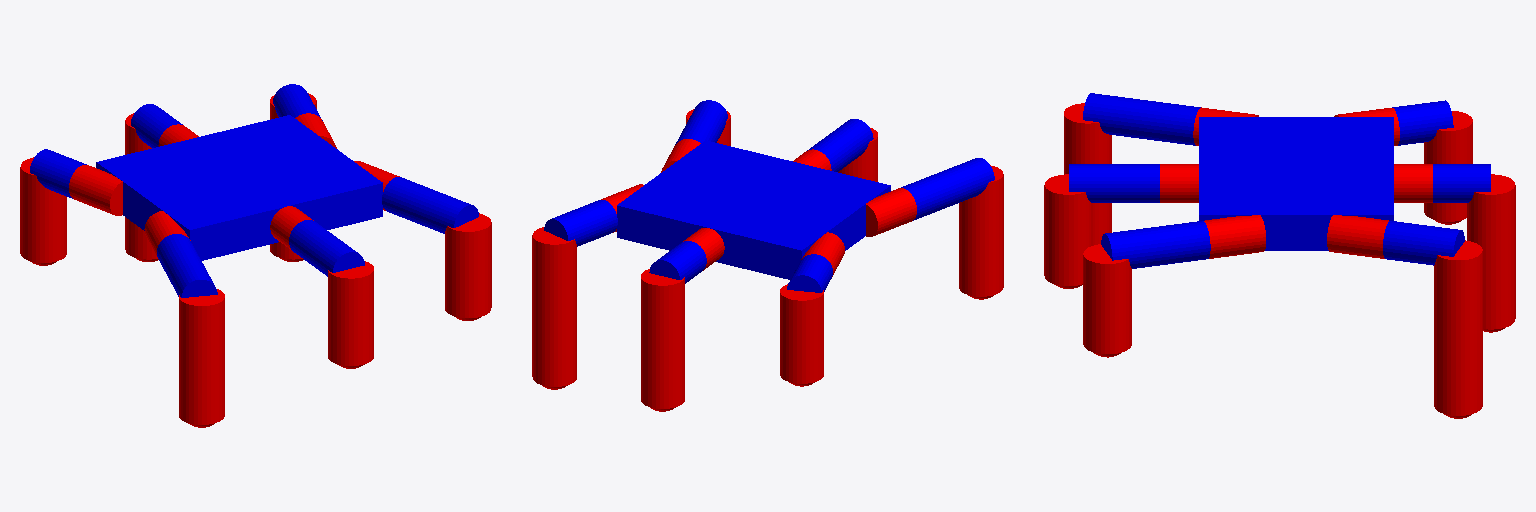
--- Facts derived from the render (not from the file) ---
3 views of the same robot in one strip: view 1: azimuth 30°, elevation 25°; view 2: azimuth 150°, elevation 25°; view 3: azimuth 270°, elevation 25° (orthographic).
Robot: pexod — 19 links, 18 joints (18 revolute); root link base_link; default pose: every joint at zero.
Links seen in each view (by area): view 1: base_link, leg_5_3, leg_3_3, leg_4_3, leg_0_3, leg_3_2, leg_4_2, leg_5_2, leg_0_1, leg_0_2, leg_1_3, leg_1_2 (+4 smaller); view 2: base_link, leg_2_3, leg_1_3, leg_5_3, leg_0_3, leg_5_2, leg_2_2, leg_4_2, leg_5_1, leg_1_2, leg_3_2, leg_0_2 (+3 smaller); view 3: base_link, leg_2_3, leg_1_3, leg_3_3, leg_4_3, leg_5_2, leg_3_2, leg_4_2, leg_5_3, leg_2_2, leg_0_3, leg_2_1 (+5 smaller).
Boxes of the visible links, left/top/right/bottom form: base_link: left=96, top=115, right=382, bottom=260; leg_5_3: left=179, top=289, right=224, bottom=427; leg_3_3: left=445, top=213, right=491, bottom=320; leg_4_3: left=328, top=261, right=373, bottom=368; leg_0_3: left=20, top=157, right=66, bottom=265; leg_3_2: left=382, top=177, right=478, bottom=233; leg_4_2: left=289, top=220, right=364, bottom=276; leg_5_2: left=157, top=234, right=217, bottom=297; leg_0_1: left=69, top=165, right=122, bottom=215; leg_0_2: left=30, top=149, right=86, bottom=198; leg_1_3: left=125, top=113, right=158, bottom=261; leg_1_2: left=131, top=104, right=182, bottom=147; base_link: left=617, top=140, right=890, bottom=279; leg_2_3: left=532, top=227, right=576, bottom=389; leg_1_3: left=641, top=269, right=684, bottom=411; leg_5_3: left=959, top=165, right=1003, bottom=299; leg_0_3: left=780, top=284, right=823, bottom=386; leg_5_2: left=901, top=158, right=994, bottom=220; leg_2_2: left=544, top=200, right=617, bottom=246; leg_4_2: left=807, top=119, right=873, bottom=171; leg_5_1: left=866, top=188, right=916, bottom=236; leg_1_2: left=649, top=241, right=706, bottom=283; leg_3_2: left=675, top=100, right=727, bottom=144; leg_0_2: left=787, top=254, right=832, bottom=292; base_link: left=1199, top=117, right=1393, bottom=250; leg_2_3: left=1434, top=240, right=1482, bottom=418; leg_1_3: left=1467, top=174, right=1515, bottom=332; leg_3_3: left=1083, top=244, right=1131, bottom=357; leg_4_3: left=1044, top=174, right=1092, bottom=288; leg_5_2: left=1083, top=93, right=1200, bottom=145; leg_3_2: left=1101, top=221, right=1210, bottom=268; leg_4_2: left=1069, top=164, right=1159, bottom=202; leg_5_3: left=1064, top=103, right=1111, bottom=245; leg_2_2: left=1383, top=221, right=1464, bottom=265; leg_0_3: left=1424, top=111, right=1472, bottom=224; leg_2_1: left=1327, top=215, right=1388, bottom=258.
Size in the robot's own frame: 0.3915 by 0.484 by 0.2088 metres.
Geometry: primitives only (box / cylinder / sphere), no mesh files.

URDF robot description (pexod):
<?xml version="1.0" ?>
<!-- =================================================================================== -->
<!-- |    This document was autogenerated by xacro from pexod.xacro                    | -->
<!-- |    EDITING THIS FILE BY HAND IS NOT RECOMMENDED                                 | -->
<!-- =================================================================================== -->
<robot name="pexod" xmlns:xacro="http://www.ros.org/wiki/xacro">
  <!-- <xacro:include filename="$(find pexod_description)/urdf/pexod_control.xacro" /> -->
  <!-- MATERIALS -->
  <material name="Blue">
    <color rgba="0 0 1 1"/>
  </material>
  <material name="Red">
    <color rgba="1 0 0 1"/>
  </material>
  <material name="Green">
    <color rgba="0 1 0 1"/>
  </material>
  <material name="Yellow">
    <color rgba="1 1 0 1"/>
  </material>
  <material name="LightGrey">
    <color rgba="0.6 0.6 0.6 1.0"/>
  </material>
  <!-- END OF MATERIALS -->
  <!-- XACRO MACROS FOR VISUALS AND COLLISIONS -->
  <!-- END OF XACRO MACROS -->
  <!-- TORSO -->
  <link name="base_link">
    <visual>
      <origin rpy="0 0 0" xyz="0 0 0"/>
      <geometry>
        <box size="0.24 0.2 0.04"/>
      </geometry>
      <material name="Blue"/>
    </visual>
    <collision>
      <origin rpy="0 0 0" xyz="0 0 0"/>
      <geometry>
        <box size="0.24 0.2 0.04"/>
      </geometry>
    </collision>
    <inertial>
      <!-- CENTER OF MASS -->
      <origin rpy="0 0 0" xyz="0 0 0"/>
      <mass value="1.031"/>
      <!-- box inertia: 1/12*m(y^2+z^2), ... -->
      <inertia ixx="0.00357413333333" ixy="0" ixz="0" iyy="0.00508626666667" iyz="0" izz="0.00838546666667"/>
    </inertial>
  </link>
  <!-- XACRO MACRO FOR LEGS LINKS/JOINTS -->
  <!-- END OF LEG LINKS/JOINTS -->
  <joint name="body_leg_2" type="revolute">
    <parent link="base_link"/>
    <child link="leg_2_1"/>
    <limit effort="30.0" lower="-1.57079632679" upper="1.57079632679" velocity="7.0"/>
    <origin rpy="0 0 -0.3" xyz="0.11 0.04 0"/>
    <!-- <xacro:if value="${index == 5 or index == 4 or index == 3}">
                <axis xyz="0 0 1"/>
            </xacro:if>
            <xacro:if value="${index == 2 or index == 1 or index == 0}"> -->
    <axis xyz="0 0 1"/>
    <!-- </xacro:if> -->
    <dynamics damping="0.0"/>
  </joint>
  <link name="leg_2_1">
    <visual>
      <origin rpy="1.57079632679 0 0" xyz="0.01 0.03 0"/>
      <geometry>
        <cylinder length="0.06" radius="0.02"/>
      </geometry>
      <material name="Red"/>
    </visual>
    <collision>
      <origin rpy="1.57079632679 0 0" xyz="0.01 0.03 0"/>
      <geometry>
        <box size="0.02 0.02 0.06"/>
      </geometry>
    </collision>
    <inertial>
      <!-- CENTER OF MASS -->
      <origin rpy="1.57079632679 0 0" xyz="0.01 0.03 0"/>
      <mass value="0.02"/>
      <!-- box inertia: 1/12*m(y^2+z^2), ... -->
      <inertia ixx="6.66666666667e-06" ixy="0" ixz="0" iyy="6.66666666667e-06" iyz="0" izz="1.33333333333e-06"/>
    </inertial>
  </link>
  <joint name="leg_2_1_2" type="revolute">
    <parent link="leg_2_1"/>
    <child link="leg_2_2"/>
    <limit effort="30.0" lower="-0.78539816339" upper="0.78539816339" velocity="7.0"/>
    <origin rpy="0 0 0" xyz="0 0.06 0"/>
    <axis xyz="1 0 0"/>
    <dynamics damping="0.0"/>
  </joint>
  <link name="leg_2_2">
    <visual>
      <origin rpy="1.57079632679 0 0" xyz="0.01 0.0379496073986 0"/>
      <geometry>
        <cylinder length="0.0758992147972" radius="0.02"/>
      </geometry>
      <material name="Blue"/>
    </visual>
    <collision>
      <origin rpy="1.57079632679 0 0" xyz="0.01 0.0379496073986 0"/>
      <geometry>
        <box size="0.02 0.02 0.0758992147972"/>
      </geometry>
    </collision>
    <inertial>
      <!-- CENTER OF MASS -->
      <origin rpy="1.57079632679 0 0" xyz="0.01 0.0379496073986 0"/>
      <mass value="0.184"/>
      <!-- box inertia: 1/12*m(y^2+z^2), ... -->
      <inertia ixx="9.44639257047e-05" ixy="0" ixz="0" iyy="9.44639257047e-05" iyz="0" izz="1.22666666667e-05"/>
    </inertial>
  </link>
  <joint name="leg_2_2_3" type="revolute">
    <parent link="leg_2_2"/>
    <child link="leg_2_3"/>
    <limit effort="30.0" lower="-0.78539816339" upper="0.78539816339" velocity="7.0"/>
    <origin rpy="-1.57079632679 0 0" xyz="0 0.0758992147972 0"/>
    <axis xyz="-1 0 0"/>
    <dynamics damping="0.0"/>
  </joint>
  <link name="leg_2_3">
    <visual>
      <origin rpy="1.57079632679 0 0" xyz="0.0125 0.088141230591 0"/>
      <geometry>
        <cylinder length="0.176282461182" radius="0.025"/>
      </geometry>
      <material name="Red"/>
    </visual>
    <visual>
      <origin rpy="1.57079632679 0 0" xyz="0.0125 0.163782461182 0"/>
      <geometry>
        <sphere radius="0.025"/>
      </geometry>
      <material name="Red"/>
    </visual>
    <collision>
      <origin rpy="1.57079632679 0 0" xyz="0.0125 0.088141230591 0"/>
      <geometry>
        <box size="0.025 0.025 0.176282461182"/>
      </geometry>
    </collision>
    <collision>
      <origin rpy="1.57079632679 0 0" xyz="0.0125 0.163782461182 0"/>
      <geometry>
        <sphere radius="0.025"/>
      </geometry>
      <material name="Red"/>
    </collision>
    <inertial>
      <!-- CENTER OF MASS -->
      <origin rpy="1.57079632679 0 0" xyz="0.0125 0.088141230591 0"/>
      <mass value="0.04"/>
      <!-- box inertia: 1/12*m(y^2+z^2), ... -->
      <inertia ixx="0.000105668353735" ixy="0" ixz="0" iyy="0.000105668353735" iyz="0" izz="4.16666666667e-06"/>
    </inertial>
  </link>
  <joint name="body_leg_3" type="revolute">
    <parent link="base_link"/>
    <child link="leg_3_1"/>
    <limit effort="30.0" lower="-1.57079632679" upper="1.57079632679" velocity="7.0"/>
    <origin rpy="0 0 0.3" xyz="0.11 -0.04 0"/>
    <!-- <xacro:if value="${index == 5 or index == 4 or index == 3}">
                <axis xyz="0 0 1"/>
            </xacro:if>
            <xacro:if value="${index == 2 or index == 1 or index == 0}"> -->
    <axis xyz="0 0 1"/>
    <!-- </xacro:if> -->
    <dynamics damping="0.0"/>
  </joint>
  <link name="leg_3_1">
    <visual>
      <origin rpy="1.57079632679 0 0" xyz="0.01 -0.03 0"/>
      <geometry>
        <cylinder length="0.06" radius="0.02"/>
      </geometry>
      <material name="Red"/>
    </visual>
    <collision>
      <origin rpy="1.57079632679 0 0" xyz="0.01 -0.03 0"/>
      <geometry>
        <box size="0.02 0.02 0.06"/>
      </geometry>
    </collision>
    <inertial>
      <!-- CENTER OF MASS -->
      <origin rpy="1.57079632679 0 0" xyz="0.01 -0.03 0"/>
      <mass value="0.02"/>
      <!-- box inertia: 1/12*m(y^2+z^2), ... -->
      <inertia ixx="6.66666666667e-06" ixy="0" ixz="0" iyy="6.66666666667e-06" iyz="0" izz="1.33333333333e-06"/>
    </inertial>
  </link>
  <joint name="leg_3_1_2" type="revolute">
    <parent link="leg_3_1"/>
    <child link="leg_3_2"/>
    <limit effort="30.0" lower="-0.78539816339" upper="0.78539816339" velocity="7.0"/>
    <origin rpy="0 0 0" xyz="0 -0.06 0"/>
    <axis xyz="-1 0 0"/>
    <dynamics damping="0.0"/>
  </joint>
  <link name="leg_3_2">
    <visual>
      <origin rpy="1.57079632679 0 0" xyz="0.01 -0.0526977955245 0"/>
      <geometry>
        <cylinder length="0.105395591049" radius="0.02"/>
      </geometry>
      <material name="Blue"/>
    </visual>
    <collision>
      <origin rpy="1.57079632679 0 0" xyz="0.01 -0.0526977955245 0"/>
      <geometry>
        <box size="0.02 0.02 0.105395591049"/>
      </geometry>
    </collision>
    <inertial>
      <!-- CENTER OF MASS -->
      <origin rpy="1.57079632679 0 0" xyz="0.01 -0.0526977955245 0"/>
      <mass value="0.184"/>
      <!-- box inertia: 1/12*m(y^2+z^2), ... -->
      <inertia ixx="0.000176459536059" ixy="0" ixz="0" iyy="0.000176459536059" iyz="0" izz="1.22666666667e-05"/>
    </inertial>
  </link>
  <joint name="leg_3_2_3" type="revolute">
    <parent link="leg_3_2"/>
    <child link="leg_3_3"/>
    <limit effort="30.0" lower="-0.78539816339" upper="0.78539816339" velocity="7.0"/>
    <origin rpy="1.57079632679 0 0" xyz="0 -0.105395591049 0"/>
    <axis xyz="1 0 0"/>
    <dynamics damping="0.0"/>
  </joint>
  <link name="leg_3_3">
    <visual>
      <origin rpy="1.57079632679 0 0" xyz="0.0125 -0.051253132637 0"/>
      <geometry>
        <cylinder length="0.102506265274" radius="0.025"/>
      </geometry>
      <material name="Red"/>
    </visual>
    <visual>
      <origin rpy="1.57079632679 0 0" xyz="0.0125 -0.090006265274 0"/>
      <geometry>
        <sphere radius="0.025"/>
      </geometry>
      <material name="Red"/>
    </visual>
    <collision>
      <origin rpy="1.57079632679 0 0" xyz="0.0125 -0.051253132637 0"/>
      <geometry>
        <box size="0.025 0.025 0.102506265274"/>
      </geometry>
    </collision>
    <collision>
      <origin rpy="1.57079632679 0 0" xyz="0.0125 -0.090006265274 0"/>
      <geometry>
        <sphere radius="0.025"/>
      </geometry>
      <material name="Red"/>
    </collision>
    <inertial>
      <!-- CENTER OF MASS -->
      <origin rpy="1.57079632679 0 0" xyz="0.0125 -0.051253132637 0"/>
      <mass value="0.04"/>
      <!-- box inertia: 1/12*m(y^2+z^2), ... -->
      <inertia ixx="3.71084480681e-05" ixy="0" ixz="0" iyy="3.71084480681e-05" iyz="0" izz="4.16666666667e-06"/>
    </inertial>
  </link>
  <joint name="body_leg_0" type="revolute">
    <parent link="base_link"/>
    <child link="leg_0_1"/>
    <limit effort="30.0" lower="-1.57079632679" upper="1.57079632679" velocity="7.0"/>
    <origin rpy="0 0 0.3" xyz="-0.13 0.04 0"/>
    <!-- <xacro:if value="${index == 5 or index == 4 or index == 3}">
                <axis xyz="0 0 1"/>
            </xacro:if>
            <xacro:if value="${index == 2 or index == 1 or index == 0}"> -->
    <axis xyz="0 0 1"/>
    <!-- </xacro:if> -->
    <dynamics damping="0.0"/>
  </joint>
  <link name="leg_0_1">
    <visual>
      <origin rpy="1.57079632679 0 0" xyz="0.01 0.03 0"/>
      <geometry>
        <cylinder length="0.06" radius="0.02"/>
      </geometry>
      <material name="Red"/>
    </visual>
    <collision>
      <origin rpy="1.57079632679 0 0" xyz="0.01 0.03 0"/>
      <geometry>
        <box size="0.02 0.02 0.06"/>
      </geometry>
    </collision>
    <inertial>
      <!-- CENTER OF MASS -->
      <origin rpy="1.57079632679 0 0" xyz="0.01 0.03 0"/>
      <mass value="0.02"/>
      <!-- box inertia: 1/12*m(y^2+z^2), ... -->
      <inertia ixx="6.66666666667e-06" ixy="0" ixz="0" iyy="6.66666666667e-06" iyz="0" izz="1.33333333333e-06"/>
    </inertial>
  </link>
  <joint name="leg_0_1_2" type="revolute">
    <parent link="leg_0_1"/>
    <child link="leg_0_2"/>
    <limit effort="30.0" lower="-0.78539816339" upper="0.78539816339" velocity="7.0"/>
    <origin rpy="0 0 0" xyz="0 0.06 0"/>
    <axis xyz="1 0 0"/>
    <dynamics damping="0.0"/>
  </joint>
  <link name="leg_0_2">
    <visual>
      <origin rpy="1.57079632679 0 0" xyz="0.01 0.0288045732112 0"/>
      <geometry>
        <cylinder length="0.0576091464223" radius="0.02"/>
      </geometry>
      <material name="Blue"/>
    </visual>
    <collision>
      <origin rpy="1.57079632679 0 0" xyz="0.01 0.0288045732112 0"/>
      <geometry>
        <box size="0.02 0.02 0.0576091464223"/>
      </geometry>
    </collision>
    <inertial>
      <!-- CENTER OF MASS -->
      <origin rpy="1.57079632679 0 0" xyz="0.01 0.0288045732112 0"/>
      <mass value="0.184"/>
      <!-- box inertia: 1/12*m(y^2+z^2), ... -->
      <inertia ixx="5.70218108564e-05" ixy="0" ixz="0" iyy="5.70218108564e-05" iyz="0" izz="1.22666666667e-05"/>
    </inertial>
  </link>
  <joint name="leg_0_2_3" type="revolute">
    <parent link="leg_0_2"/>
    <child link="leg_0_3"/>
    <limit effort="30.0" lower="-0.78539816339" upper="0.78539816339" velocity="7.0"/>
    <origin rpy="-1.57079632679 0 0" xyz="0 0.0576091464223 0"/>
    <axis xyz="-1 0 0"/>
    <dynamics damping="0.0"/>
  </joint>
  <link name="leg_0_3">
    <visual>
      <origin rpy="1.57079632679 0 0" xyz="0.0125 0.0515022741535 0"/>
      <geometry>
        <cylinder length="0.103004548307" radius="0.025"/>
      </geometry>
      <material name="Red"/>
    </visual>
    <visual>
      <origin rpy="1.57079632679 0 0" xyz="0.0125 0.090504548307 0"/>
      <geometry>
        <sphere radius="0.025"/>
      </geometry>
      <material name="Red"/>
    </visual>
    <collision>
      <origin rpy="1.57079632679 0 0" xyz="0.0125 0.0515022741535 0"/>
      <geometry>
        <box size="0.025 0.025 0.103004548307"/>
      </geometry>
    </collision>
    <collision>
      <origin rpy="1.57079632679 0 0" xyz="0.0125 0.090504548307 0"/>
      <geometry>
        <sphere radius="0.025"/>
      </geometry>
      <material name="Red"/>
    </collision>
    <inertial>
      <!-- CENTER OF MASS -->
      <origin rpy="1.57079632679 0 0" xyz="0.0125 0.0515022741535 0"/>
      <mass value="0.04"/>
      <!-- box inertia: 1/12*m(y^2+z^2), ... -->
      <inertia ixx="3.74497899064e-05" ixy="0" ixz="0" iyy="3.74497899064e-05" iyz="0" izz="4.16666666667e-06"/>
    </inertial>
  </link>
  <joint name="body_leg_5" type="revolute">
    <parent link="base_link"/>
    <child link="leg_5_1"/>
    <limit effort="30.0" lower="-1.57079632679" upper="1.57079632679" velocity="7.0"/>
    <origin rpy="0 0 -0.3" xyz="-0.13 -0.04 0"/>
    <!-- <xacro:if value="${index == 5 or index == 4 or index == 3}">
                <axis xyz="0 0 1"/>
            </xacro:if>
            <xacro:if value="${index == 2 or index == 1 or index == 0}"> -->
    <axis xyz="0 0 1"/>
    <!-- </xacro:if> -->
    <dynamics damping="0.0"/>
  </joint>
  <link name="leg_5_1">
    <visual>
      <origin rpy="1.57079632679 0 0" xyz="0.01 -0.03 0"/>
      <geometry>
        <cylinder length="0.06" radius="0.02"/>
      </geometry>
      <material name="Red"/>
    </visual>
    <collision>
      <origin rpy="1.57079632679 0 0" xyz="0.01 -0.03 0"/>
      <geometry>
        <box size="0.02 0.02 0.06"/>
      </geometry>
    </collision>
    <inertial>
      <!-- CENTER OF MASS -->
      <origin rpy="1.57079632679 0 0" xyz="0.01 -0.03 0"/>
      <mass value="0.02"/>
      <!-- box inertia: 1/12*m(y^2+z^2), ... -->
      <inertia ixx="6.66666666667e-06" ixy="0" ixz="0" iyy="6.66666666667e-06" iyz="0" izz="1.33333333333e-06"/>
    </inertial>
  </link>
  <joint name="leg_5_1_2" type="revolute">
    <parent link="leg_5_1"/>
    <child link="leg_5_2"/>
    <limit effort="30.0" lower="-0.78539816339" upper="0.78539816339" velocity="7.0"/>
    <origin rpy="0 0 0" xyz="0 -0.06 0"/>
    <axis xyz="-1 0 0"/>
    <dynamics damping="0.0"/>
  </joint>
  <link name="leg_5_2">
    <visual>
      <origin rpy="1.57079632679 0 0" xyz="0.01 -0.0594378425435 0"/>
      <geometry>
        <cylinder length="0.118875685087" radius="0.02"/>
      </geometry>
      <material name="Blue"/>
    </visual>
    <collision>
      <origin rpy="1.57079632679 0 0" xyz="0.01 -0.0594378425435 0"/>
      <geometry>
        <box size="0.02 0.02 0.118875685087"/>
      </geometry>
    </collision>
    <inertial>
      <!-- CENTER OF MASS -->
      <origin rpy="1.57079632679 0 0" xyz="0.01 -0.0594378425435 0"/>
      <mass value="0.184"/>
      <!-- box inertia: 1/12*m(y^2+z^2), ... -->
      <inertia ixx="0.000222815237075" ixy="0" ixz="0" iyy="0.000222815237075" iyz="0" izz="1.22666666667e-05"/>
    </inertial>
  </link>
  <joint name="leg_5_2_3" type="revolute">
    <parent link="leg_5_2"/>
    <child link="leg_5_3"/>
    <limit effort="30.0" lower="-0.78539816339" upper="0.78539816339" velocity="7.0"/>
    <origin rpy="1.57079632679 0 0" xyz="0 -0.118875685087 0"/>
    <axis xyz="1 0 0"/>
    <dynamics damping="0.0"/>
  </joint>
  <link name="leg_5_3">
    <visual>
      <origin rpy="1.57079632679 0 0" xyz="0.0125 -0.0703695547175 0"/>
      <geometry>
        <cylinder length="0.140739109435" radius="0.025"/>
      </geometry>
      <material name="Red"/>
    </visual>
    <visual>
      <origin rpy="1.57079632679 0 0" xyz="0.0125 -0.128239109435 0"/>
      <geometry>
        <sphere radius="0.025"/>
      </geometry>
      <material name="Red"/>
    </visual>
    <collision>
      <origin rpy="1.57079632679 0 0" xyz="0.0125 -0.0703695547175 0"/>
      <geometry>
        <box size="0.025 0.025 0.140739109435"/>
      </geometry>
    </collision>
    <collision>
      <origin rpy="1.57079632679 0 0" xyz="0.0125 -0.128239109435 0"/>
      <geometry>
        <sphere radius="0.025"/>
      </geometry>
      <material name="Red"/>
    </collision>
    <inertial>
      <!-- CENTER OF MASS -->
      <origin rpy="1.57079632679 0 0" xyz="0.0125 -0.0703695547175 0"/>
      <mass value="0.04"/>
      <!-- box inertia: 1/12*m(y^2+z^2), ... -->
      <inertia ixx="6.81083230819e-05" ixy="0" ixz="0" iyy="6.81083230819e-05" iyz="0" izz="4.16666666667e-06"/>
    </inertial>
  </link>
  <joint name="body_leg_1" type="revolute">
    <parent link="base_link"/>
    <child link="leg_1_1"/>
    <limit effort="30.0" lower="-1.57079632679" upper="1.57079632679" velocity="7.0"/>
    <origin rpy="0 0 0" xyz="-0.01 0.08 0"/>
    <!-- <xacro:if value="${index == 5 or index == 4 or index == 3}">
                <axis xyz="0 0 1"/>
            </xacro:if>
            <xacro:if value="${index == 2 or index == 1 or index == 0}"> -->
    <axis xyz="0 0 1"/>
    <!-- </xacro:if> -->
    <dynamics damping="0.0"/>
  </joint>
  <link name="leg_1_1">
    <visual>
      <origin rpy="1.57079632679 0 0" xyz="0.01 0.03 0"/>
      <geometry>
        <cylinder length="0.06" radius="0.02"/>
      </geometry>
      <material name="Red"/>
    </visual>
    <collision>
      <origin rpy="1.57079632679 0 0" xyz="0.01 0.03 0"/>
      <geometry>
        <box size="0.02 0.02 0.06"/>
      </geometry>
    </collision>
    <inertial>
      <!-- CENTER OF MASS -->
      <origin rpy="1.57079632679 0 0" xyz="0.01 0.03 0"/>
      <mass value="0.02"/>
      <!-- box inertia: 1/12*m(y^2+z^2), ... -->
      <inertia ixx="6.66666666667e-06" ixy="0" ixz="0" iyy="6.66666666667e-06" iyz="0" izz="1.33333333333e-06"/>
    </inertial>
  </link>
  <joint name="leg_1_1_2" type="revolute">
    <parent link="leg_1_1"/>
    <child link="leg_1_2"/>
    <limit effort="30.0" lower="-0.78539816339" upper="0.78539816339" velocity="7.0"/>
    <origin rpy="0 0 0" xyz="0 0.06 0"/>
    <axis xyz="1 0 0"/>
    <dynamics damping="0.0"/>
  </joint>
  <link name="leg_1_2">
    <visual>
      <origin rpy="1.57079632679 0 0" xyz="0.01 0.0299292684795 0"/>
      <geometry>
        <cylinder length="0.059858536959" radius="0.02"/>
      </geometry>
      <material name="Blue"/>
    </visual>
    <collision>
      <origin rpy="1.57079632679 0 0" xyz="0.01 0.0299292684795 0"/>
      <geometry>
        <box size="0.02 0.02 0.059858536959"/>
      </geometry>
    </collision>
    <inertial>
      <!-- CENTER OF MASS -->
      <origin rpy="1.57079632679 0 0" xyz="0.01 0.0299292684795 0"/>
      <mass value="0.184"/>
      <!-- box inertia: 1/12*m(y^2+z^2), ... -->
      <inertia ixx="6.10733481854e-05" ixy="0" ixz="0" iyy="6.10733481854e-05" iyz="0" izz="1.22666666667e-05"/>
    </inertial>
  </link>
  <joint name="leg_1_2_3" type="revolute">
    <parent link="leg_1_2"/>
    <child link="leg_1_3"/>
    <limit effort="30.0" lower="-0.78539816339" upper="0.78539816339" velocity="7.0"/>
    <origin rpy="-1.57079632679 0 0" xyz="0 0.059858536959 0"/>
    <axis xyz="-1 0 0"/>
    <dynamics damping="0.0"/>
  </joint>
  <link name="leg_1_3">
    <visual>
      <origin rpy="1.57079632679 0 0" xyz="0.0125 0.076374883691 0"/>
      <geometry>
        <cylinder length="0.152749767382" radius="0.025"/>
      </geometry>
      <material name="Red"/>
    </visual>
    <visual>
      <origin rpy="1.57079632679 0 0" xyz="0.0125 0.140249767382 0"/>
      <geometry>
        <sphere radius="0.025"/>
      </geometry>
      <material name="Red"/>
    </visual>
    <collision>
      <origin rpy="1.57079632679 0 0" xyz="0.0125 0.076374883691 0"/>
      <geometry>
        <box size="0.025 0.025 0.152749767382"/>
      </geometry>
    </collision>
    <collision>
      <origin rpy="1.57079632679 0 0" xyz="0.0125 0.140249767382 0"/>
      <geometry>
        <sphere radius="0.025"/>
      </geometry>
      <material name="Red"/>
    </collision>
    <inertial>
      <!-- CENTER OF MASS -->
      <origin rpy="1.57079632679 0 0" xyz="0.0125 0.076374883691 0"/>
      <mass value="0.04"/>
      <!-- box inertia: 1/12*m(y^2+z^2), ... -->
      <inertia ixx="7.98583047842e-05" ixy="0" ixz="0" iyy="7.98583047842e-05" iyz="0" izz="4.16666666667e-06"/>
    </inertial>
  </link>
  <joint name="body_leg_4" type="revolute">
    <parent link="base_link"/>
    <child link="leg_4_1"/>
    <limit effort="30.0" lower="-1.57079632679" upper="1.57079632679" velocity="7.0"/>
    <origin rpy="0 0 0" xyz="-0.01 -0.08 0"/>
    <!-- <xacro:if value="${index == 5 or index == 4 or index == 3}">
                <axis xyz="0 0 1"/>
            </xacro:if>
            <xacro:if value="${index == 2 or index == 1 or index == 0}"> -->
    <axis xyz="0 0 1"/>
    <!-- </xacro:if> -->
    <dynamics damping="0.0"/>
  </joint>
  <link name="leg_4_1">
    <visual>
      <origin rpy="1.57079632679 0 0" xyz="0.01 -0.03 0"/>
      <geometry>
        <cylinder length="0.06" radius="0.02"/>
      </geometry>
      <material name="Red"/>
    </visual>
    <collision>
      <origin rpy="1.57079632679 0 0" xyz="0.01 -0.03 0"/>
      <geometry>
        <box size="0.02 0.02 0.06"/>
      </geometry>
    </collision>
    <inertial>
      <!-- CENTER OF MASS -->
      <origin rpy="1.57079632679 0 0" xyz="0.01 -0.03 0"/>
      <mass value="0.02"/>
      <!-- box inertia: 1/12*m(y^2+z^2), ... -->
      <inertia ixx="6.66666666667e-06" ixy="0" ixz="0" iyy="6.66666666667e-06" iyz="0" izz="1.33333333333e-06"/>
    </inertial>
  </link>
  <joint name="leg_4_1_2" type="revolute">
    <parent link="leg_4_1"/>
    <child link="leg_4_2"/>
    <limit effort="30.0" lower="-0.78539816339" upper="0.78539816339" velocity="7.0"/>
    <origin rpy="0 0 0" xyz="0 -0.06 0"/>
    <axis xyz="-1 0 0"/>
    <dynamics damping="0.0"/>
  </joint>
  <link name="leg_4_2">
    <visual>
      <origin rpy="1.57079632679 0 0" xyz="0.01 -0.0470929239733 0"/>
      <geometry>
        <cylinder length="0.0941858479467" radius="0.02"/>
      </geometry>
      <material name="Blue"/>
    </visual>
    <collision>
      <origin rpy="1.57079632679 0 0" xyz="0.01 -0.0470929239733 0"/>
      <geometry>
        <box size="0.02 0.02 0.0941858479467"/>
      </geometry>
    </collision>
    <inertial>
      <!-- CENTER OF MASS -->
      <origin rpy="1.57079632679 0 0" xyz="0.01 -0.0470929239733 0"/>
      <mass value="0.184"/>
      <!-- box inertia: 1/12*m(y^2+z^2), ... -->
      <inertia ixx="0.000142154933953" ixy="0" ixz="0" iyy="0.000142154933953" iyz="0" izz="1.22666666667e-05"/>
    </inertial>
  </link>
  <joint name="leg_4_2_3" type="revolute">
    <parent link="leg_4_2"/>
    <child link="leg_4_3"/>
    <limit effort="30.0" lower="-0.78539816339" upper="0.78539816339" velocity="7.0"/>
    <origin rpy="1.57079632679 0 0" xyz="0 -0.0941858479467 0"/>
    <axis xyz="1 0 0"/>
    <dynamics damping="0.0"/>
  </joint>
  <link name="leg_4_3">
    <visual>
      <origin rpy="1.57079632679 0 0" xyz="0.0125 -0.0518006916515 0"/>
      <geometry>
        <cylinder length="0.103601383303" radius="0.025"/>
      </geometry>
      <material name="Red"/>
    </visual>
    <visual>
      <origin rpy="1.57079632679 0 0" xyz="0.0125 -0.091101383303 0"/>
      <geometry>
        <sphere radius="0.025"/>
      </geometry>
      <material name="Red"/>
    </visual>
    <collision>
      <origin rpy="1.57079632679 0 0" xyz="0.0125 -0.0518006916515 0"/>
      <geometry>
        <box size="0.025 0.025 0.103601383303"/>
      </geometry>
    </collision>
    <collision>
      <origin rpy="1.57079632679 0 0" xyz="0.0125 -0.091101383303 0"/>
      <geometry>
        <sphere radius="0.025"/>
      </geometry>
      <material name="Red"/>
    </collision>
    <inertial>
      <!-- CENTER OF MASS -->
      <origin rpy="1.57079632679 0 0" xyz="0.0125 -0.0518006916515 0"/>
      <mass value="0.04"/>
      <!-- box inertia: 1/12*m(y^2+z^2), ... -->
      <inertia ixx="3.78608220743e-05" ixy="0" ixz="0" iyy="3.78608220743e-05" iyz="0" izz="4.16666666667e-06"/>
    </inertial>
  </link>
  <!-- END OF LEG LINKS/JOINTS -->
</robot>
